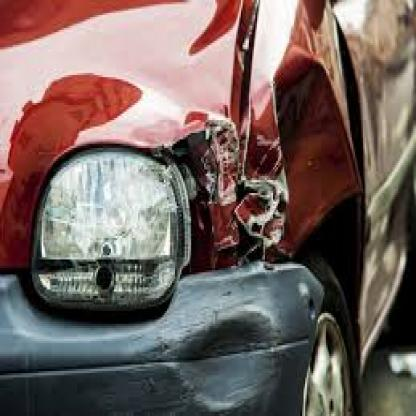accident: (7, 11, 409, 412)
